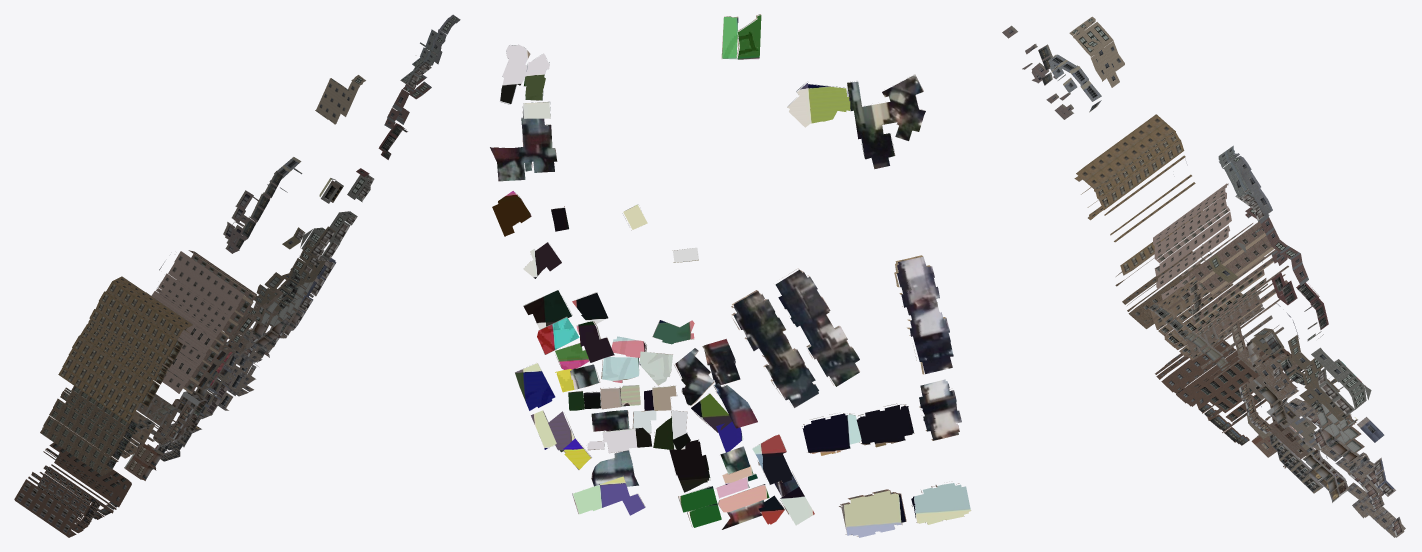
File: tile_LOD4_r7_c2.glb
3 views of the same model, side by side, from view 1: azimuth 30°, elevation 25°; view 2: azimuth 150°, elevation 25°; view 3: azimuth 270°, elevation 25° (orthographic). The views are drawn at different scales.
Bounding box in the file's own units: 188 × 174 × 124.
Materials: 200 (199 with a texture image).
